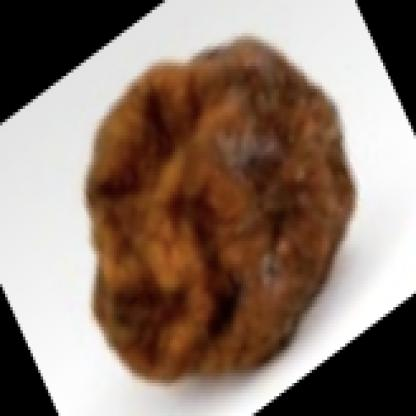rotten: (88, 36, 357, 387)
